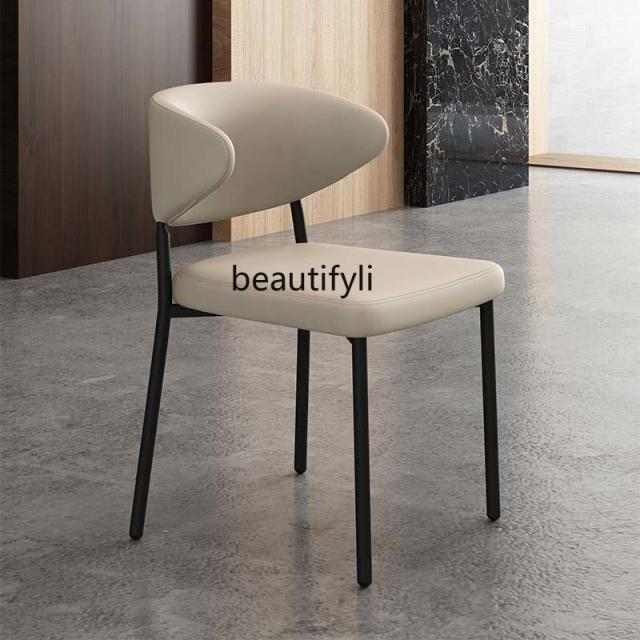chair: (122, 72, 514, 587), (118, 69, 514, 363)
